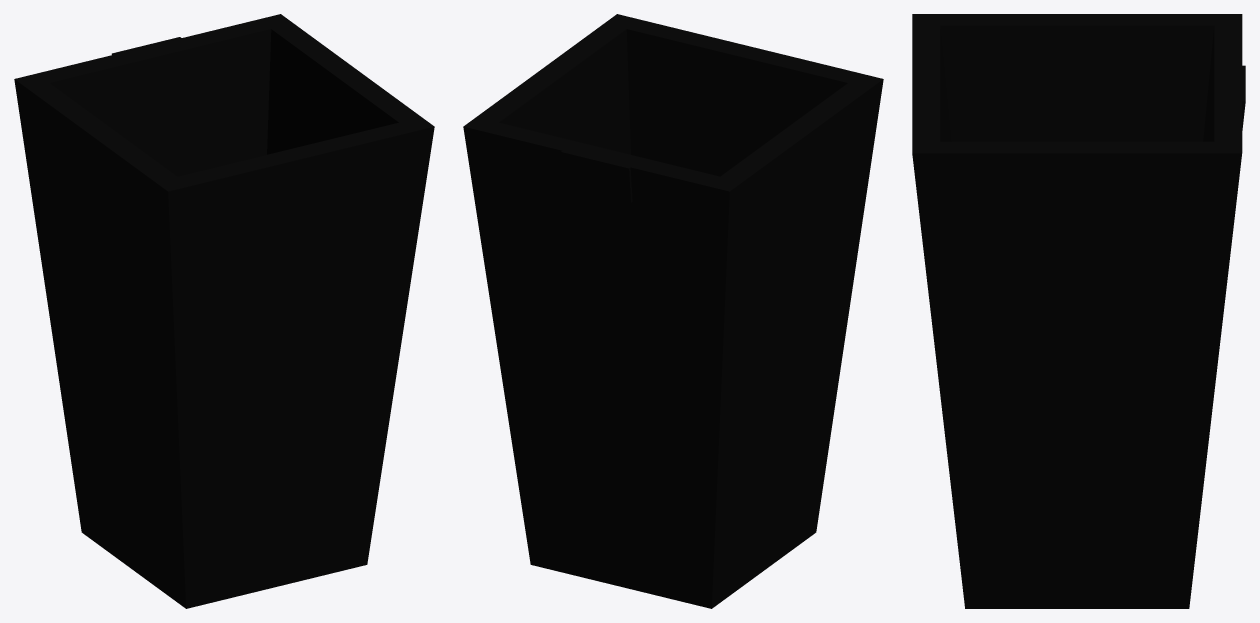
File: Itr_Trashcan1_Body_03.FBX
The picture shows the model from 3 angles, left to right: view 1: azimuth 30°, elevation 25°; view 2: azimuth 150°, elevation 25°; view 3: azimuth 270°, elevation 25°; orthographic projection. The views are drawn at different scales.
Visible parts, largest first — view 1: Itr_Trashcan1_Body_03; view 2: Itr_Trashcan1_Body_03; view 3: Itr_Trashcan1_Body_03.
Part boxes in pixels (box(x1,y1,x2,y2)): Itr_Trashcan1_Body_03: box(14, 14, 434, 608); Itr_Trashcan1_Body_03: box(463, 14, 883, 608); Itr_Trashcan1_Body_03: box(912, 14, 1245, 608).
Size of the model in its own units: 14.85 by 23.74 by 15.01.
